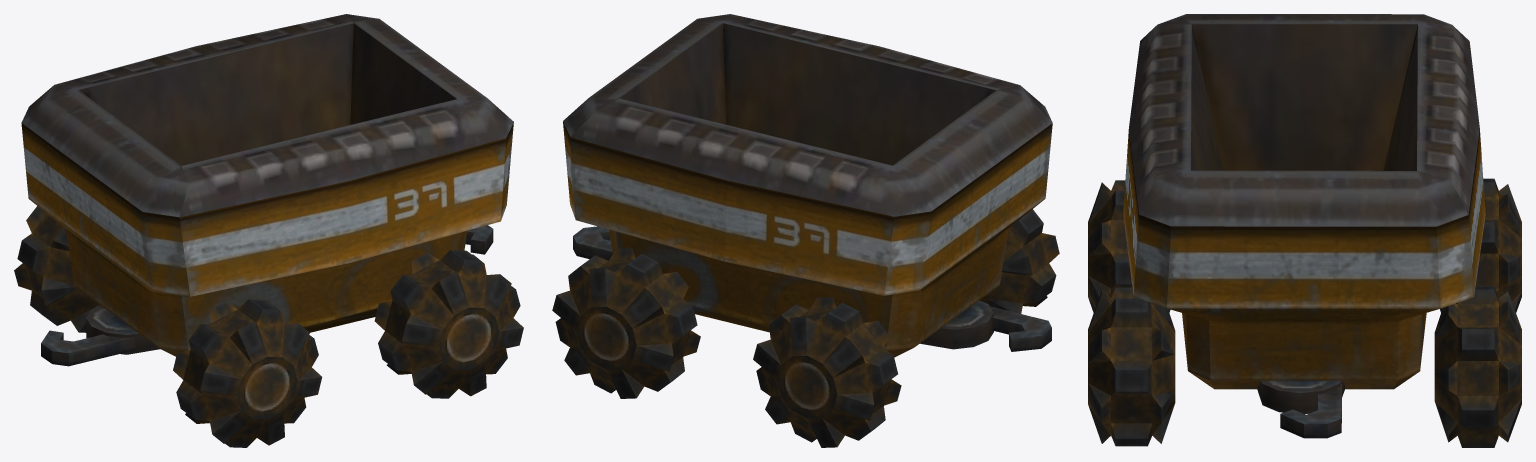
The model's file is marsaraminecart.fbx.
3 views of the same model, side by side, from view 1: azimuth 30°, elevation 25°; view 2: azimuth 150°, elevation 25°; view 3: azimuth 270°, elevation 25° (orthographic). The views are drawn at different scales.
Visible parts, largest first — view 1: Geoset_0; view 2: Geoset_0; view 3: Geoset_0.
Boxes of the visible parts, left/top/right/bottom form: Geoset_0: left=14, top=14, right=523, bottom=447; Geoset_0: left=552, top=14, right=1059, bottom=447; Geoset_0: left=1088, top=14, right=1521, bottom=447.
Size of the model in its own units: 1.67 by 0.921 by 1.26.
